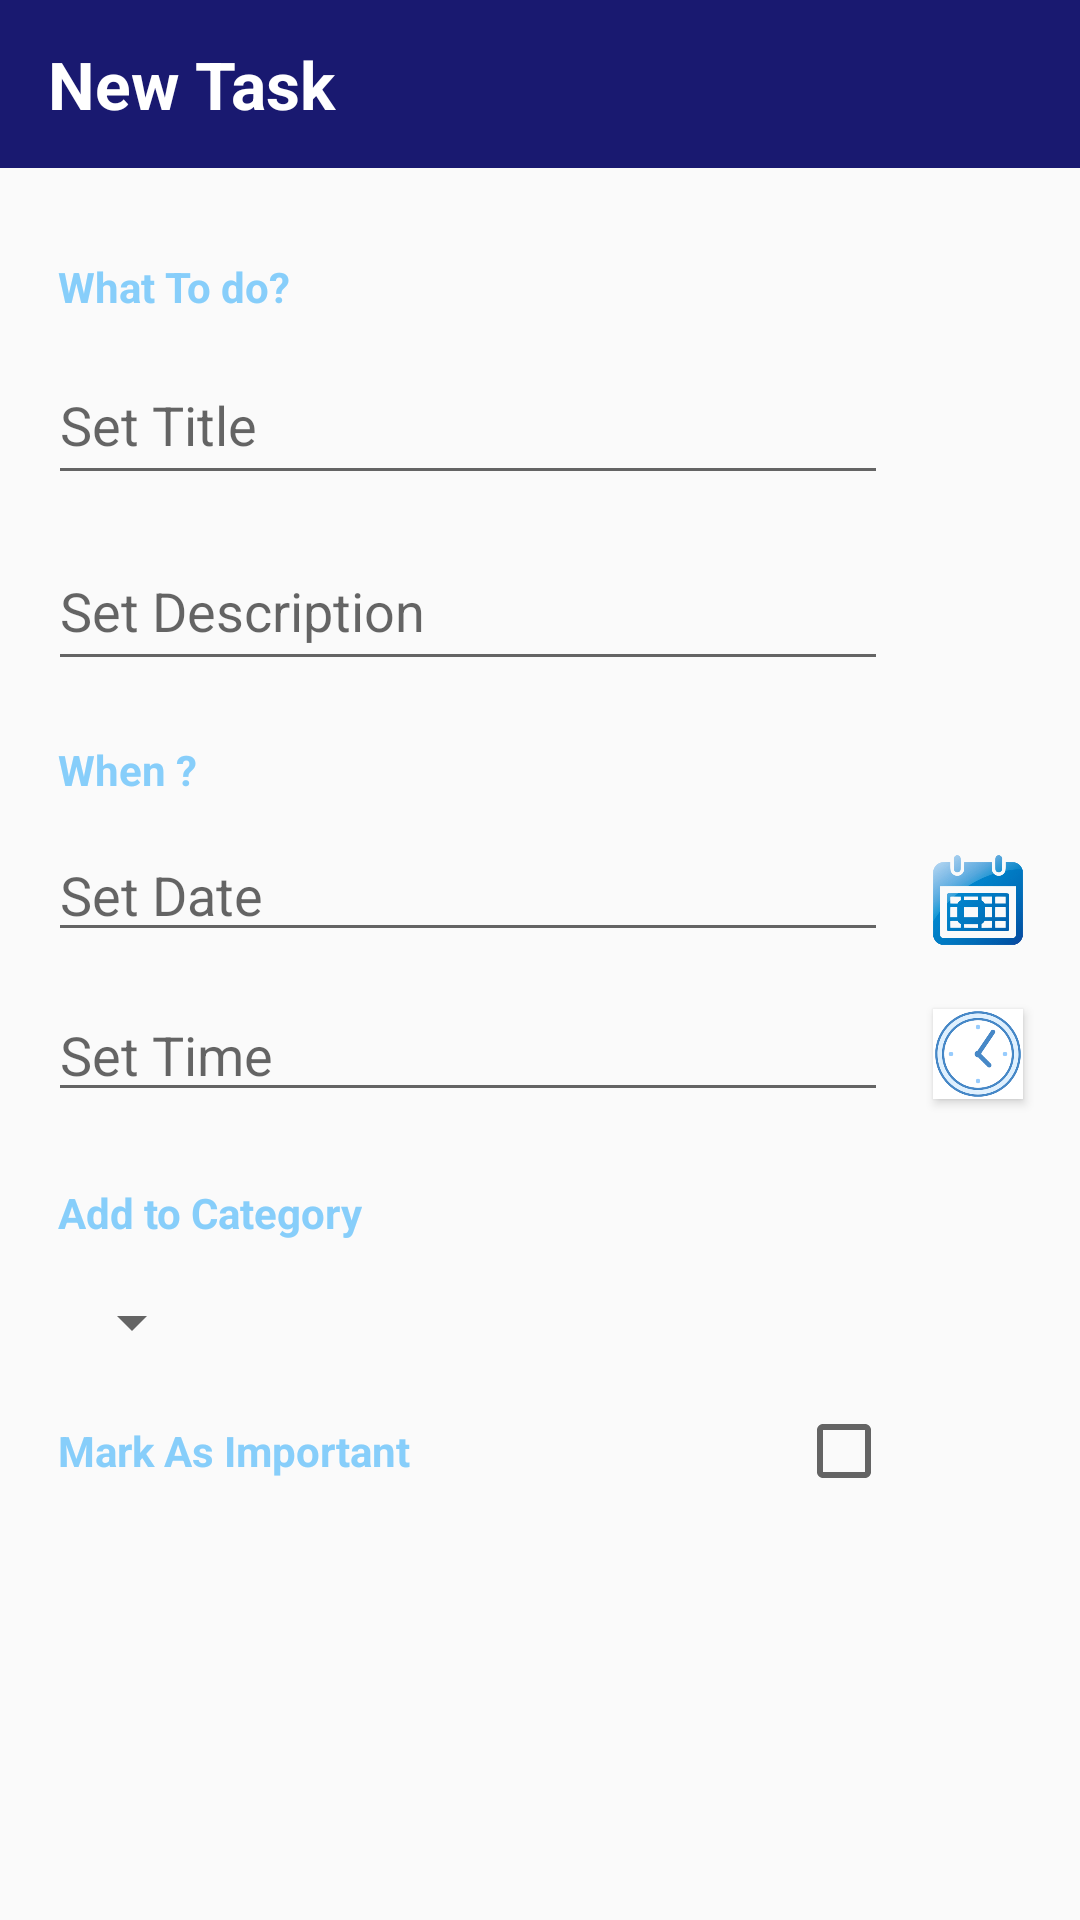

Where to tap for icons on this 1080w x 1920h app screen, as (x,y):
clock: (978,1054)
